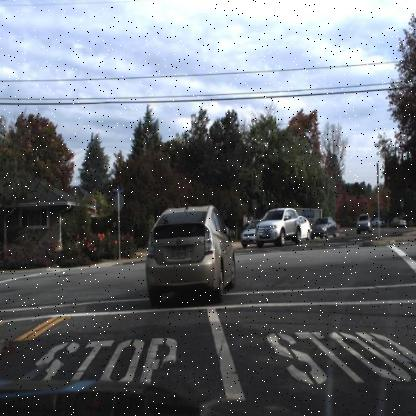car: (140, 202, 240, 303), (254, 206, 301, 245), (310, 216, 335, 240), (293, 216, 312, 240), (354, 211, 372, 236), (354, 210, 372, 234)
